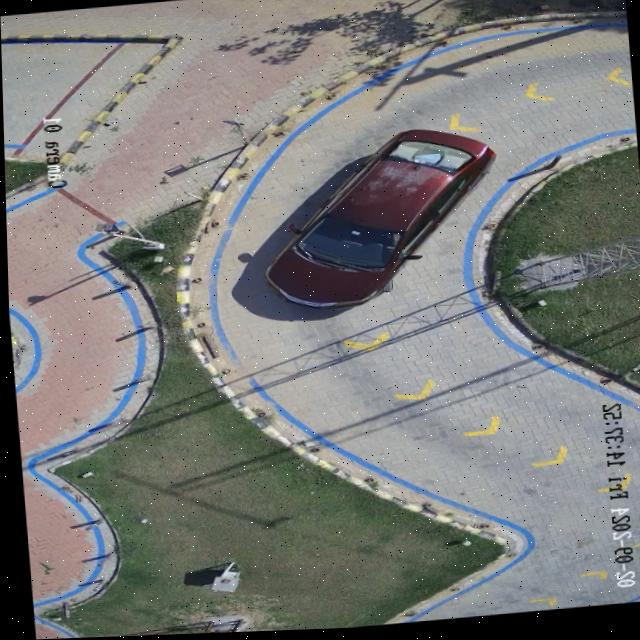car: (263, 133, 493, 312)
